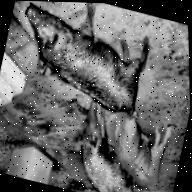boar: (3, 0, 166, 121), (55, 97, 152, 192)
